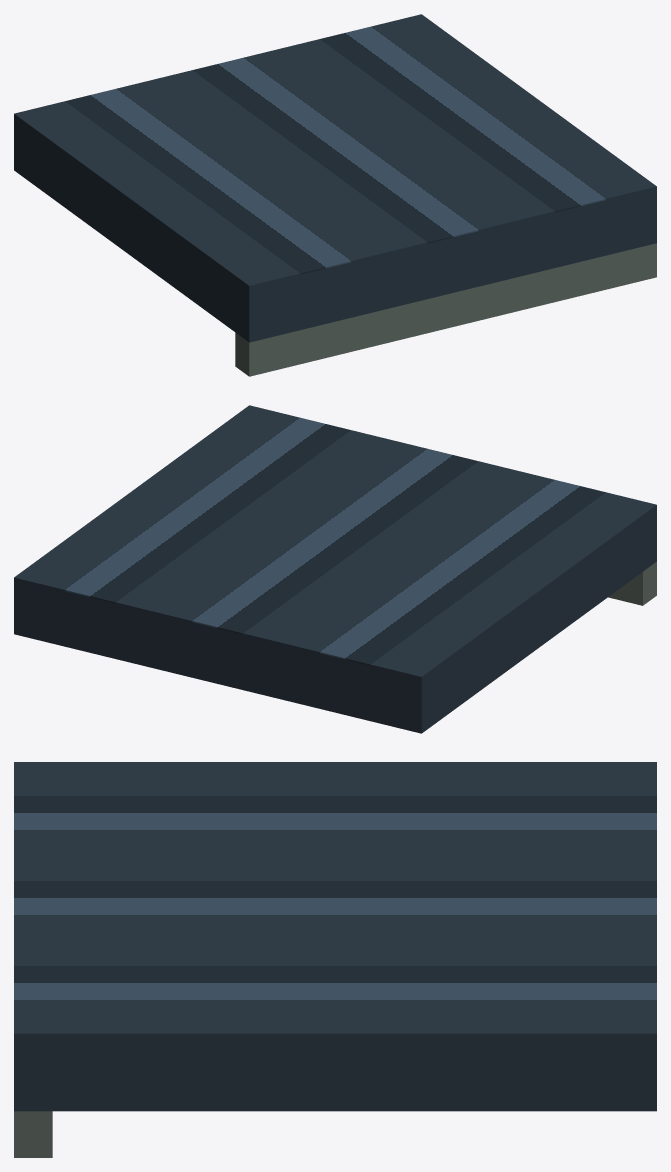
File: CMU3DInteriorVehicleBoxVanBackground2.glb
The picture shows the model from 3 angles, top to bottom: view 1: azimuth 30°, elevation 25°; view 2: azimuth 150°, elevation 25°; view 3: azimuth 270°, elevation 25°; orthographic projection. The views are drawn at different scales.
Parts seen in each view (by area): view 1: overhead armor source finish, overhead armor, inner roof rib; view 2: overhead armor source finish, overhead armor, inner roof rib; view 3: overhead armor source finish, overhead armor, inner roof rib.
Boxes of the visible parts, x1=… form: overhead armor source finish: x1=14, y1=14, x2=656, y2=286; overhead armor: x1=14, y1=115, x2=656, y2=342; inner roof rib: x1=235, y1=243, x2=656, y2=376; overhead armor source finish: x1=14, y1=405, x2=656, y2=677; overhead armor: x1=14, y1=506, x2=656, y2=733; inner roof rib: x1=608, y1=561, x2=656, y2=605; overhead armor source finish: x1=14, y1=762, x2=656, y2=1035; overhead armor: x1=14, y1=1035, x2=656, y2=1111; inner roof rib: x1=14, y1=1111, x2=52, y2=1157.
Size of the model in its own units: 1 by 0.213 by 1.
3 materials, 1 textured.
